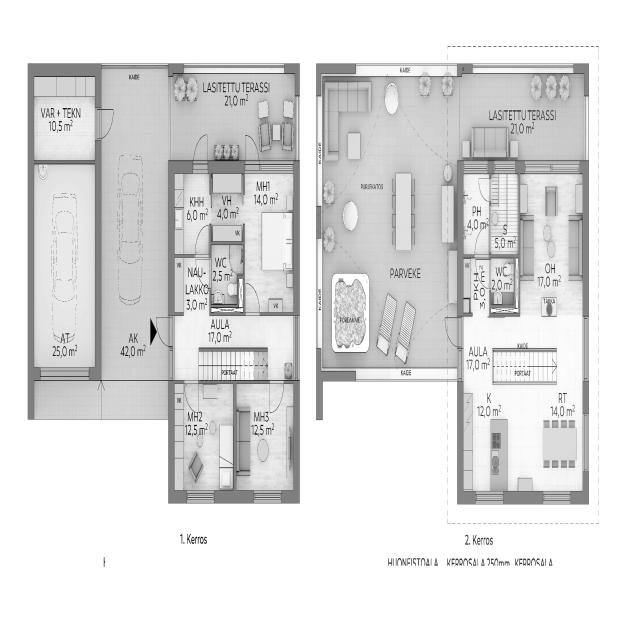door: (445, 300, 465, 350), (91, 104, 117, 140), (476, 160, 494, 211), (475, 227, 490, 286), (244, 130, 264, 171), (153, 304, 170, 350), (183, 380, 201, 421), (191, 126, 208, 168), (190, 224, 211, 258), (243, 285, 262, 319), (267, 380, 288, 410)
window: (518, 160, 584, 178), (289, 304, 303, 381), (250, 480, 283, 512), (540, 482, 575, 511), (470, 482, 506, 507), (582, 305, 592, 394), (580, 409, 592, 473), (181, 488, 217, 508)
zone: (460, 354, 590, 499), (520, 157, 588, 351), (243, 163, 302, 318), (171, 380, 237, 495), (234, 384, 295, 500), (35, 68, 100, 156), (212, 171, 244, 321), (168, 160, 214, 253), (462, 254, 516, 315), (462, 162, 494, 257), (211, 167, 246, 242), (492, 166, 520, 257)
